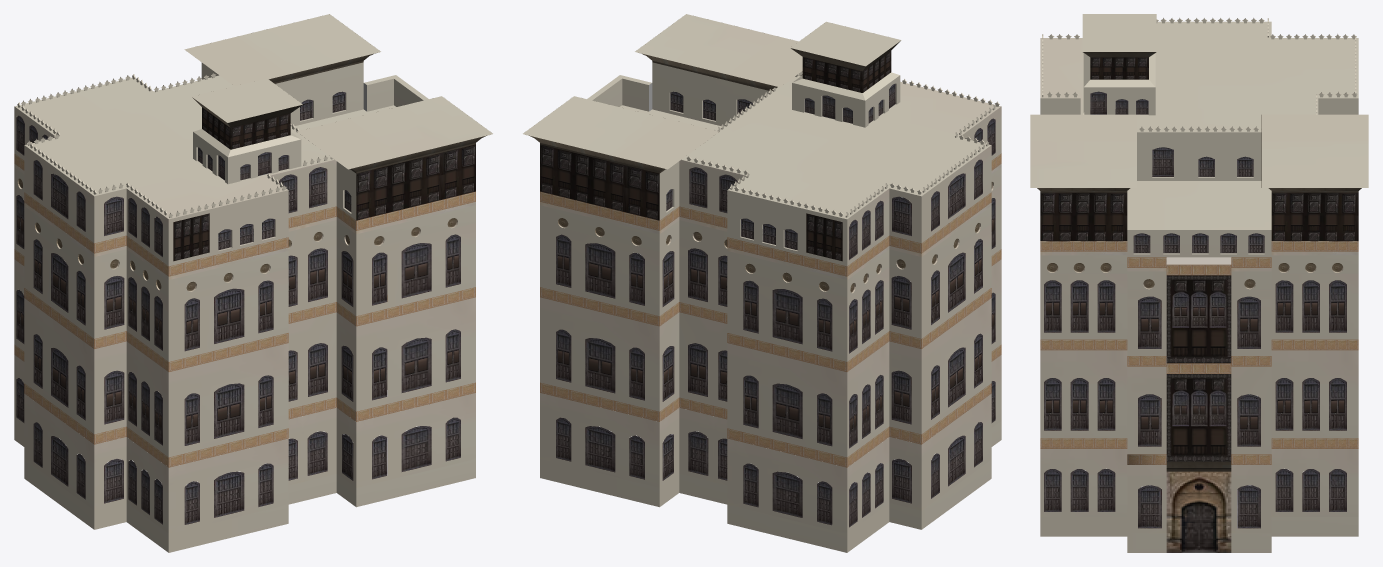
The picture shows the model from 3 angles, left to right: view 1: azimuth 30°, elevation 25°; view 2: azimuth 150°, elevation 25°; view 3: azimuth 270°, elevation 25°; orthographic projection. The views are drawn at different scales.
Visible parts, largest first — view 1: Line001_primitive1, Line001_primitive8, Line001_primitive5, Line001_primitive4, Line001_primitive7, Line001_primitive3; view 2: Line001_primitive1, Line001_primitive8, Line001_primitive5, Line001_primitive4, Line001_primitive7, Line001_primitive3; view 3: Line001_primitive1, Line001_primitive8, Line001_primitive6, Line001_primitive5, Line001_primitive4, Line001_primitive7, Line001_primitive2, Line001_primitive3.
Part boxes in pixels (bbox=[...]): Line001_primitive1: bbox=[14, 14, 492, 552]; Line001_primitive8: bbox=[16, 192, 460, 445]; Line001_primitive5: bbox=[16, 91, 460, 524]; Line001_primitive4: bbox=[14, 153, 475, 467]; Line001_primitive7: bbox=[20, 107, 475, 261]; Line001_primitive3: bbox=[192, 53, 486, 173]; Line001_primitive1: bbox=[523, 14, 1001, 552]; Line001_primitive8: bbox=[556, 181, 995, 448]; Line001_primitive5: bbox=[556, 83, 995, 527]; Line001_primitive4: bbox=[540, 153, 1001, 467]; Line001_primitive7: bbox=[540, 51, 993, 261]; Line001_primitive3: bbox=[529, 41, 900, 173]; Line001_primitive1: bbox=[1030, 14, 1368, 552]; Line001_primitive8: bbox=[1044, 241, 1352, 446]; Line001_primitive6: bbox=[1166, 275, 1231, 461]; Line001_primitive5: bbox=[1044, 91, 1346, 528]; Line001_primitive4: bbox=[1040, 241, 1358, 464]; Line001_primitive7: bbox=[1040, 57, 1358, 240]; Line001_primitive2: bbox=[1166, 471, 1231, 552]; Line001_primitive3: bbox=[1037, 52, 1361, 471].
Bounding box in the file's own units: 16.1 × 15.76 × 11.84.
9 materials, 8 textured.
